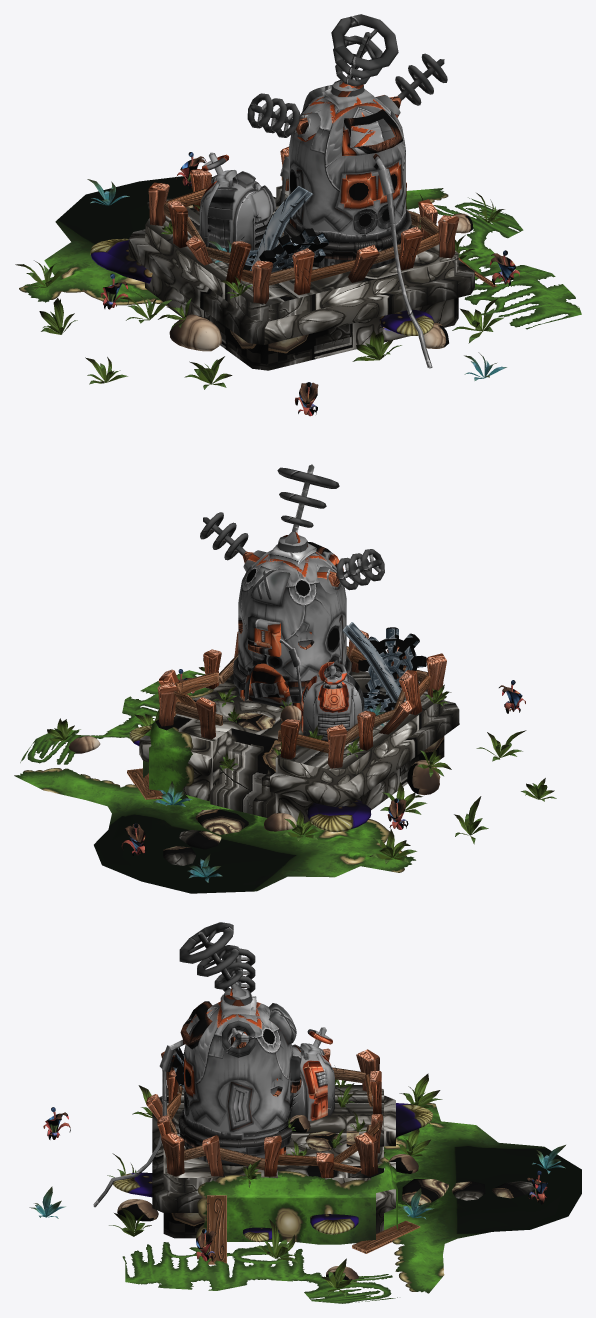
Rendered from orangehouse.dae.
3 views of the same model, one above another, from view 1: azimuth 30°, elevation 25°; view 2: azimuth 150°, elevation 25°; view 3: azimuth 270°, elevation 25° (orthographic). The views are drawn at different scales.
Visible parts, largest first — view 1: housebig, base1, grasshouse, fence, housesmall, grass, mushroom, stone, blueflower, cog, grider, blugrasse; view 2: grasshouse, base1, housebig, fence, grass, housesmall, cog, stone, mushroom, blueflower, grider, blugrasse (+1 smaller); view 3: grasshouse, housebig, base1, fence, grass, mushroom, housesmall, plank, stone, blueflower, blugrasse.
Boxes of the visible parts, <box> form: housebig: <box>247,14,447,368</box>; base1: <box>128,185,474,370</box>; grasshouse: <box>19,176,581,329</box>; fence: <box>148,146,459,303</box>; housesmall: <box>199,152,275,252</box>; grass: <box>15,193,512,389</box>; mushroom: <box>90,238,434,335</box>; stone: <box>169,213,473,351</box>; blueflower: <box>100,152,519,416</box>; cog: <box>243,228,329,272</box>; grider: <box>250,186,312,270</box>; blugrasse: <box>87,179,506,380</box>; grasshouse: <box>14,670,415,893</box>; base1: <box>139,671,459,865</box>; housebig: <box>200,464,384,710</box>; fence: <box>157,630,446,768</box>; grass: <box>45,658,556,863</box>; housesmall: <box>301,661,364,742</box>; cog: <box>358,627,426,712</box>; stone: <box>68,705,440,831</box>; mushroom: <box>129,725,371,832</box>; blueflower: <box>121,669,525,855</box>; grider: <box>342,622,405,702</box>; blugrasse: <box>153,702,389,882</box>; grasshouse: <box>122,1103,581,1303</box>; housebig: <box>93,922,301,1207</box>; base1: <box>152,1085,534,1238</box>; fence: <box>146,1048,382,1177</box>; grass: <box>107,1065,442,1297</box>; mushroom: <box>113,1103,432,1242</box>; housesmall: <box>292,1027,334,1120</box>; plank: <box>207,1121,420,1264</box>; stone: <box>117,1115,418,1281</box>; blueflower: <box>43,1107,547,1261</box>; blugrasse: <box>29,1145,565,1219</box>.
Bounding box in the file's own units: 0.2869 × 0.3062 × 0.1661.
13 materials, 13 textured.
